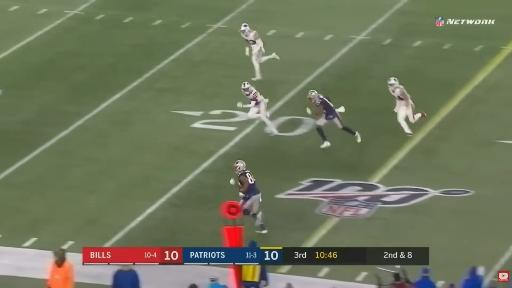Helmet: (234, 160, 245, 172), (308, 90, 318, 101), (242, 82, 251, 94), (388, 78, 398, 85), (241, 24, 249, 31)
Jersey: (238, 170, 259, 199), (315, 95, 339, 119), (389, 85, 412, 104), (241, 31, 263, 50), (244, 89, 265, 105)
Player: (308, 90, 361, 148), (234, 160, 267, 233), (388, 78, 426, 135), (241, 24, 279, 80), (238, 82, 277, 134)
